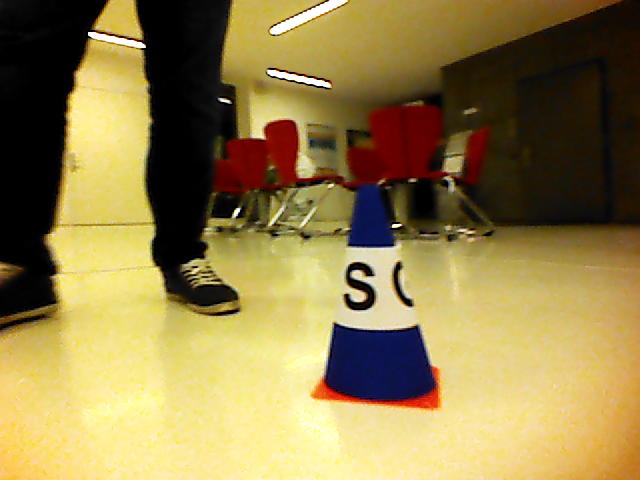bluecone: (321, 182, 436, 399)
